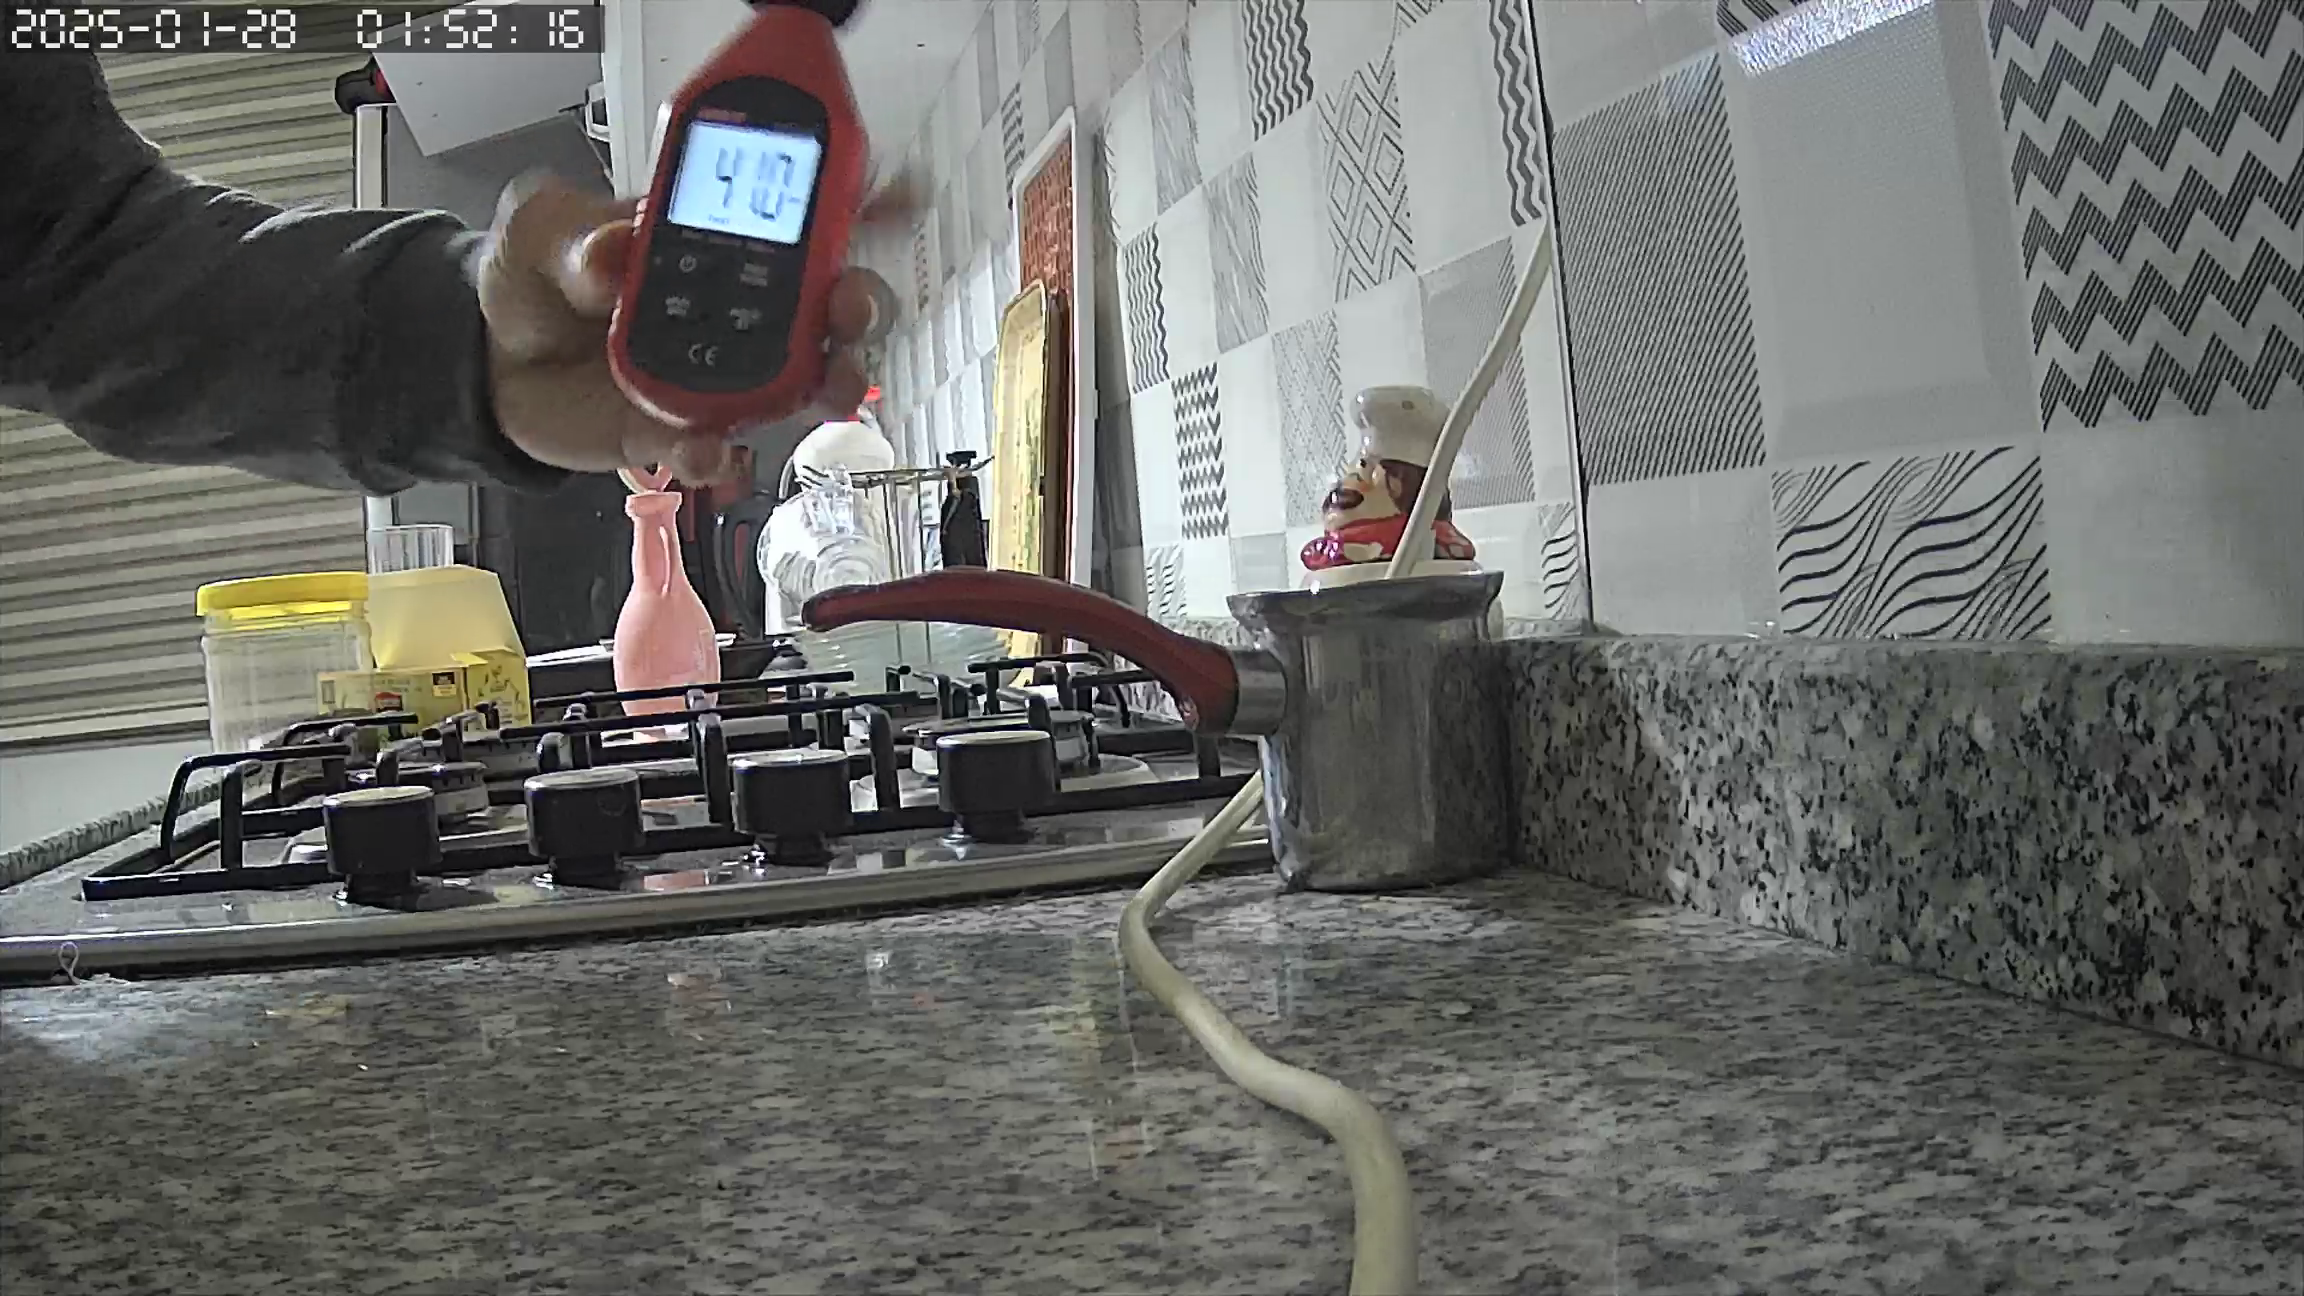screen: (666, 120, 818, 245)
